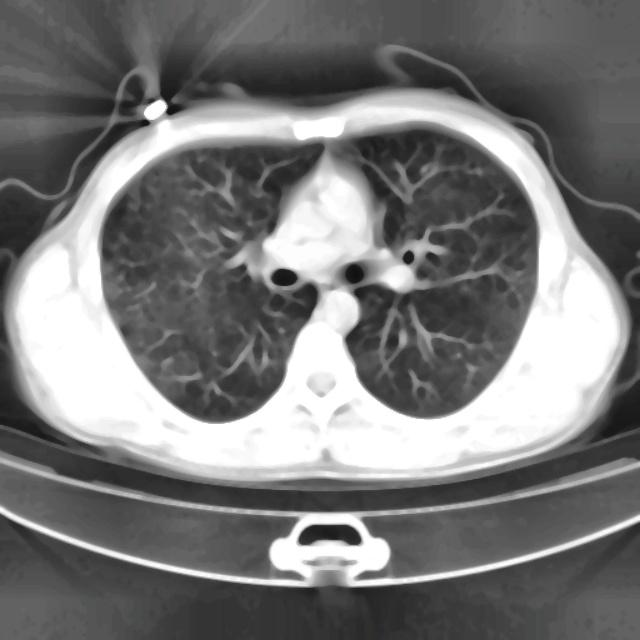covid: (3, 75, 634, 490)
